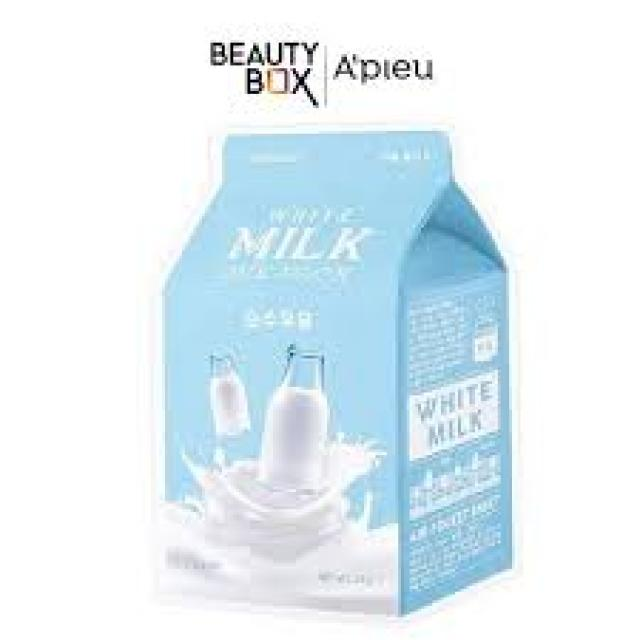non_white_jug: (133, 94, 518, 620)
